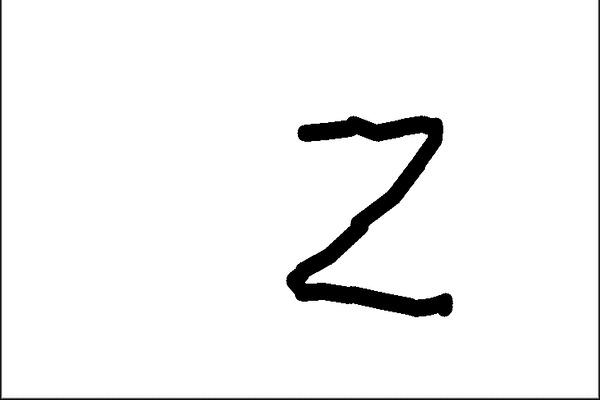Z: (281, 108, 460, 321)
